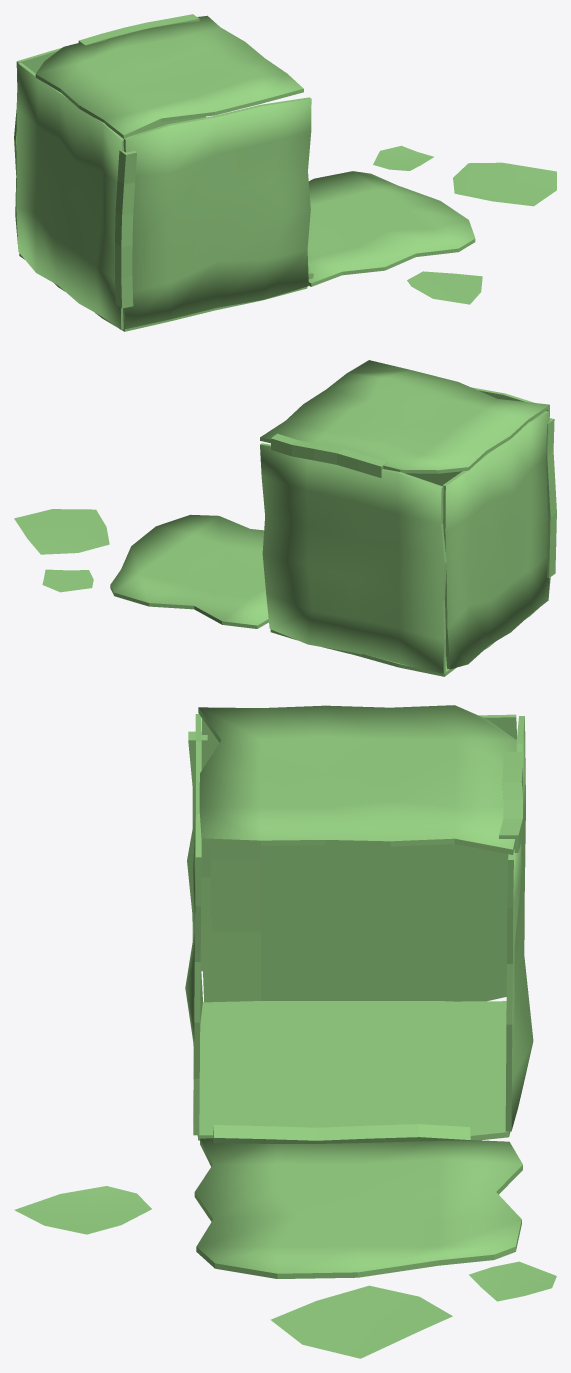
File: Pappkarton.fbx
The picture shows the model from 3 angles, top to bottom: view 1: azimuth 30°, elevation 25°; view 2: azimuth 150°, elevation 25°; view 3: azimuth 270°, elevation 25°; orthographic projection. The views are drawn at different scales.
Parts seen in each view (by area): view 1: Papphouse; view 2: Papphouse; view 3: Papphouse.
Boxes of the visible parts, x1,y1,x2,y2 form: Papphouse: [14, 14, 556, 331]; Papphouse: [14, 360, 556, 676]; Papphouse: [14, 705, 556, 1358].
Bounding box in the file's own units: 671 × 274 × 424.
